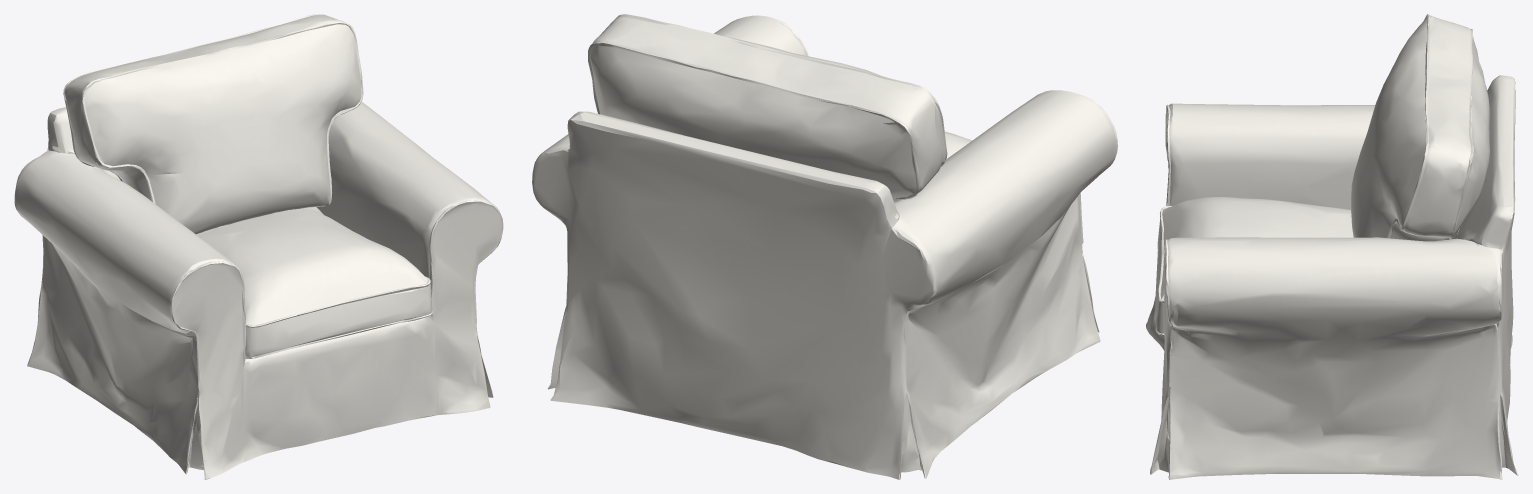
File: armchair-17.glb
The picture shows the model from 3 angles, left to right: view 1: azimuth 30°, elevation 25°; view 2: azimuth 150°, elevation 25°; view 3: azimuth 270°, elevation 25°; orthographic projection. The views are drawn at different scales.
Visible parts, largest first — view 1: ProcessedMeshNode; view 2: ProcessedMeshNode; view 3: ProcessedMeshNode.
Part boxes in pixels (x1=…): ProcessedMeshNode: x1=14, y1=14, x2=503, y2=479; ProcessedMeshNode: x1=532, y1=14, x2=1117, y2=479; ProcessedMeshNode: x1=1146, y1=14, x2=1518, y2=479.
Size of the model in its own units: 1.05 by 0.9042 by 0.9278.
1 material, 1 textured.
